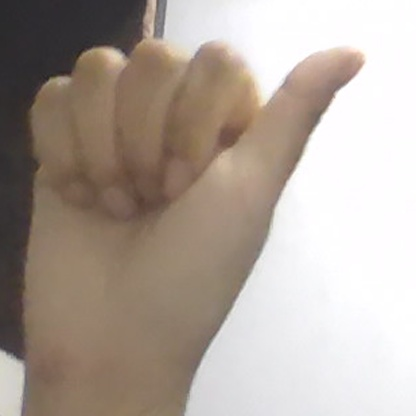A: (24, 39, 364, 381)
